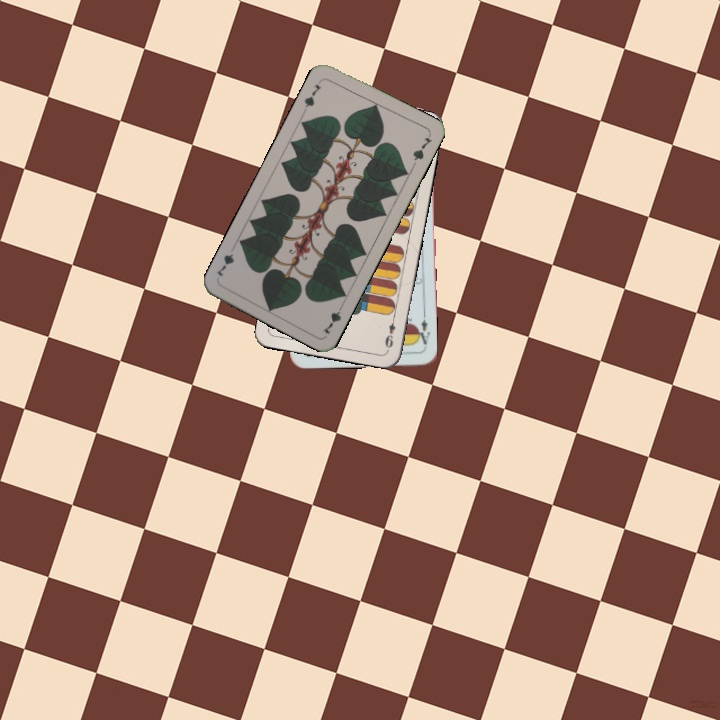E9: (381, 312, 398, 352)
EA: (413, 310, 433, 351)
G7: (318, 299, 346, 337), (300, 76, 324, 114)
